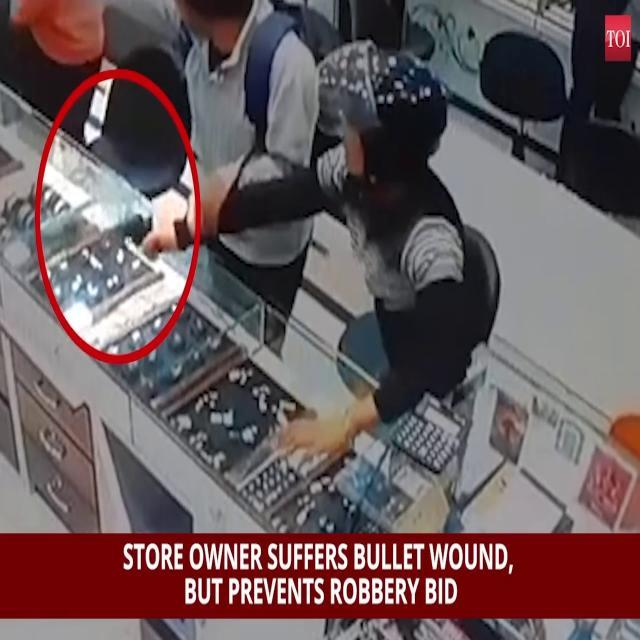weapon: (104, 202, 160, 248)
